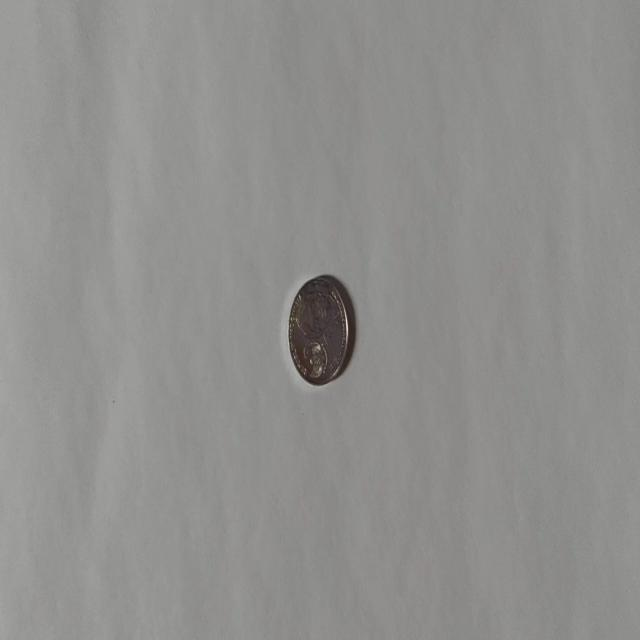dua ratus rupiah: (287, 273, 349, 387)
